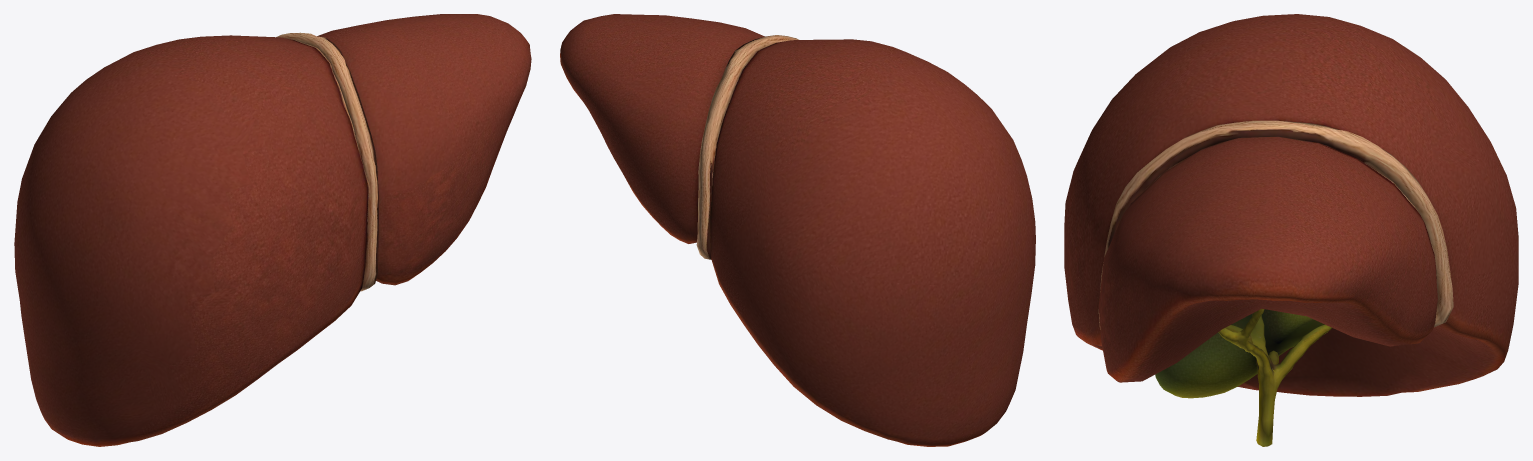
Rendered from liver-realistic.glb.
3 renders of one model, left to right at view 1: azimuth 30°, elevation 25°; view 2: azimuth 150°, elevation 25°; view 3: azimuth 270°, elevation 25°, orthographic. The views are drawn at different scales.
Parts seen in each view (by area): view 1: tripo_node_45cd9801-6793-4bf4-8e47-0b1ed9a41115; view 2: tripo_node_45cd9801-6793-4bf4-8e47-0b1ed9a41115; view 3: tripo_node_45cd9801-6793-4bf4-8e47-0b1ed9a41115.
Boxes of the visible parts, x1,y1,x2,y2 form: tripo_node_45cd9801-6793-4bf4-8e47-0b1ed9a41115: [14, 14, 531, 446]; tripo_node_45cd9801-6793-4bf4-8e47-0b1ed9a41115: [560, 14, 1035, 446]; tripo_node_45cd9801-6793-4bf4-8e47-0b1ed9a41115: [1064, 14, 1518, 446].
Size of the model in its own units: 0.998 by 0.7207 by 0.6699.
Materials: 1 (1 with a texture image).
